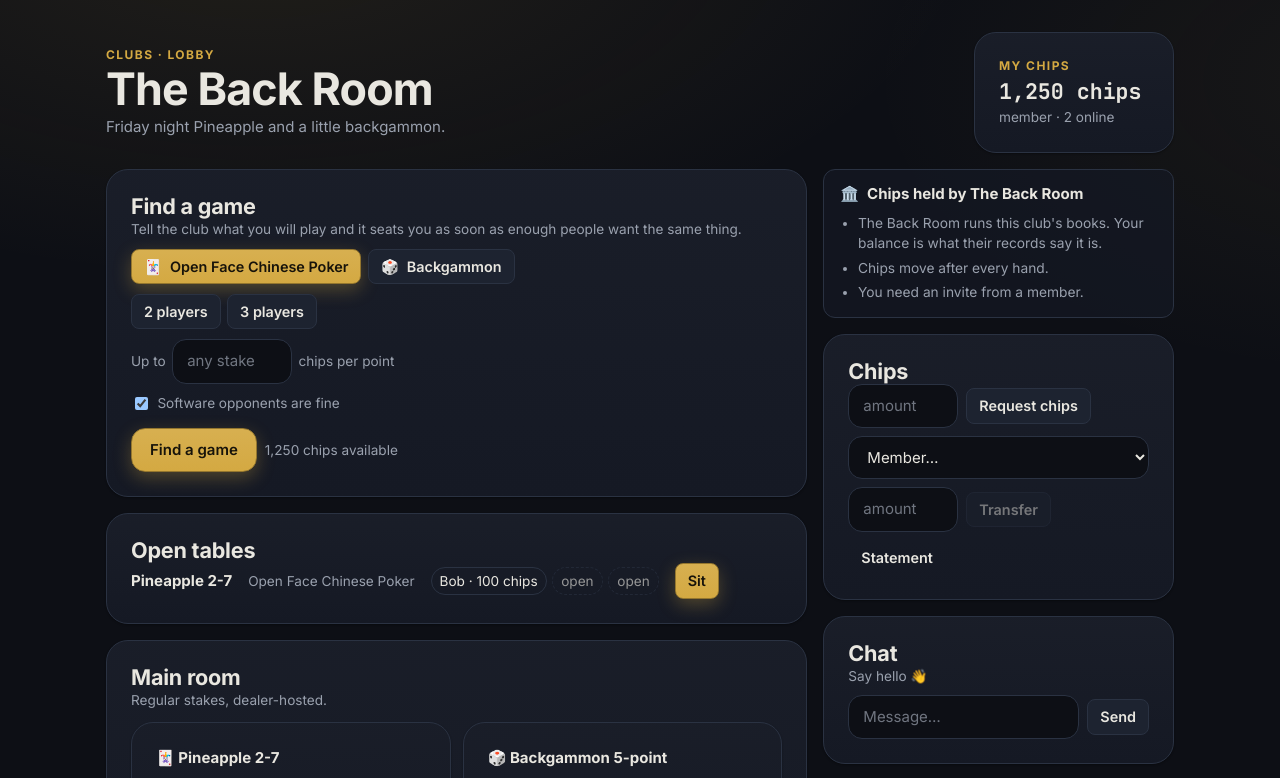
finding a game › remembers the ticket so a reload re-queues
This screenshot has width=1280, height=778.
What coordinates should you click on to do the following:
click the button with test id "queue-button"
I would click on:
 (194, 450)
Its box is [131,428,257,472].
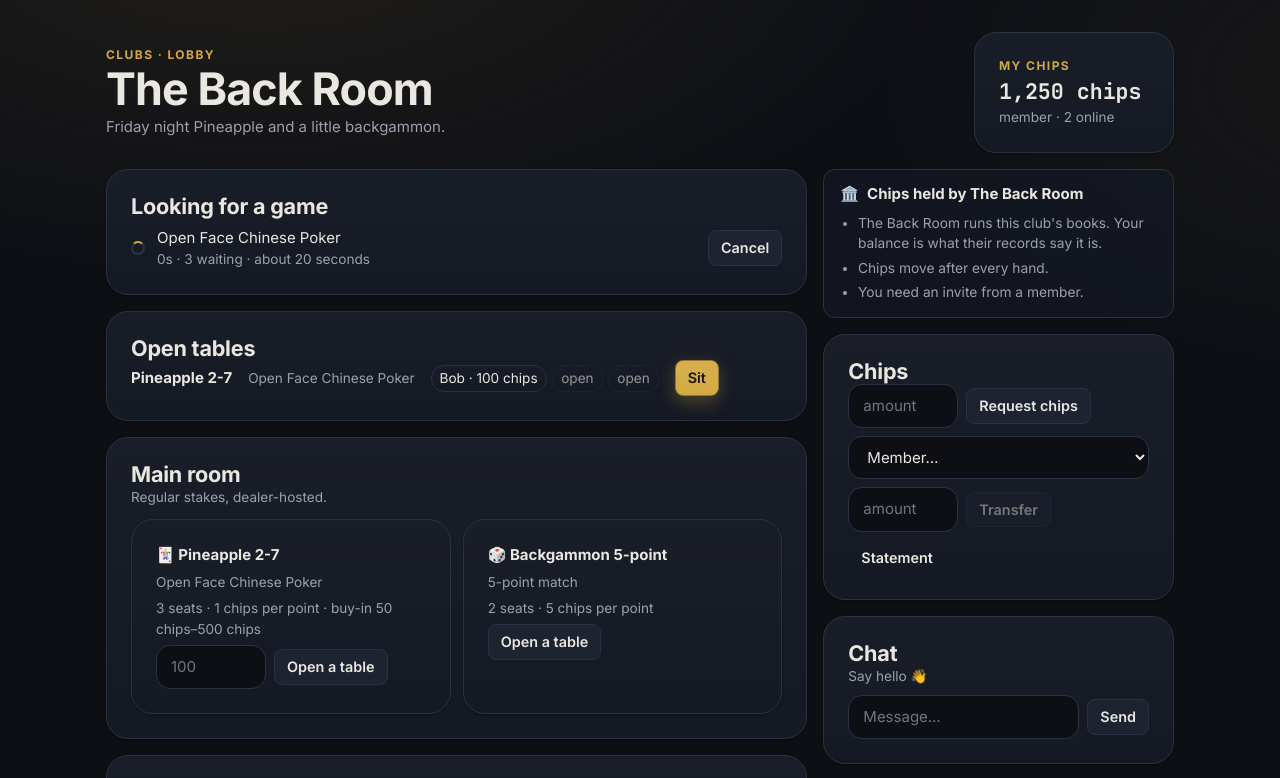
expect the button with test id "cancel-queue" is shown: met, box [708,230,782,266]
